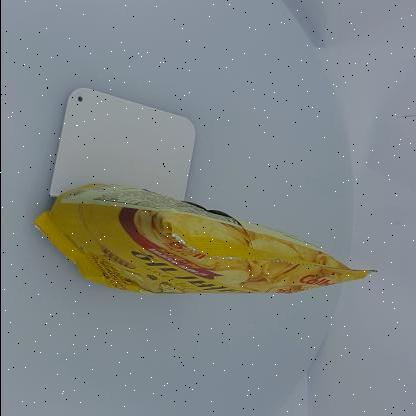Others: (30, 178, 382, 306)
